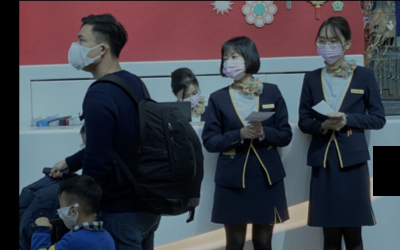with_mask: (67, 33, 100, 71), (317, 34, 344, 64), (222, 51, 247, 82), (177, 86, 201, 108), (57, 200, 75, 228)
